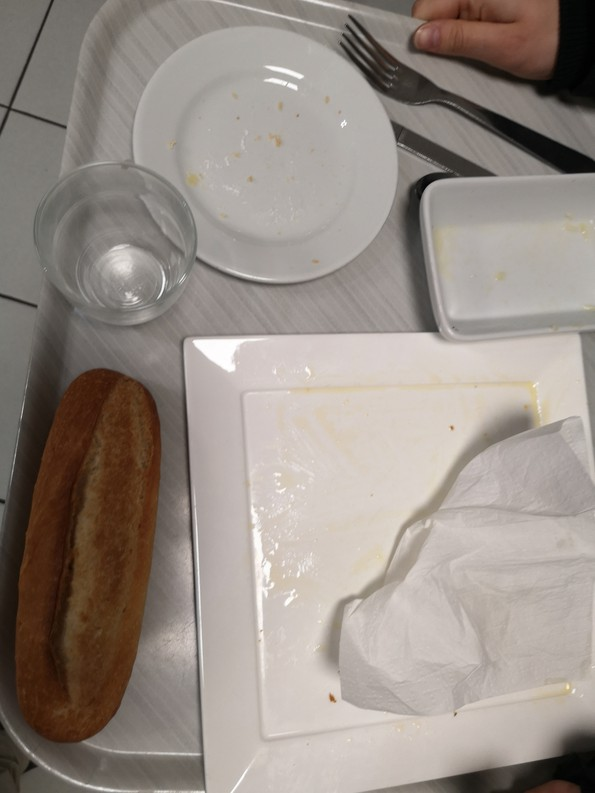cup: (22, 159, 229, 343)
cutlery: (334, 13, 595, 172)
orga: (11, 346, 166, 758)
trash: (319, 401, 595, 727)
